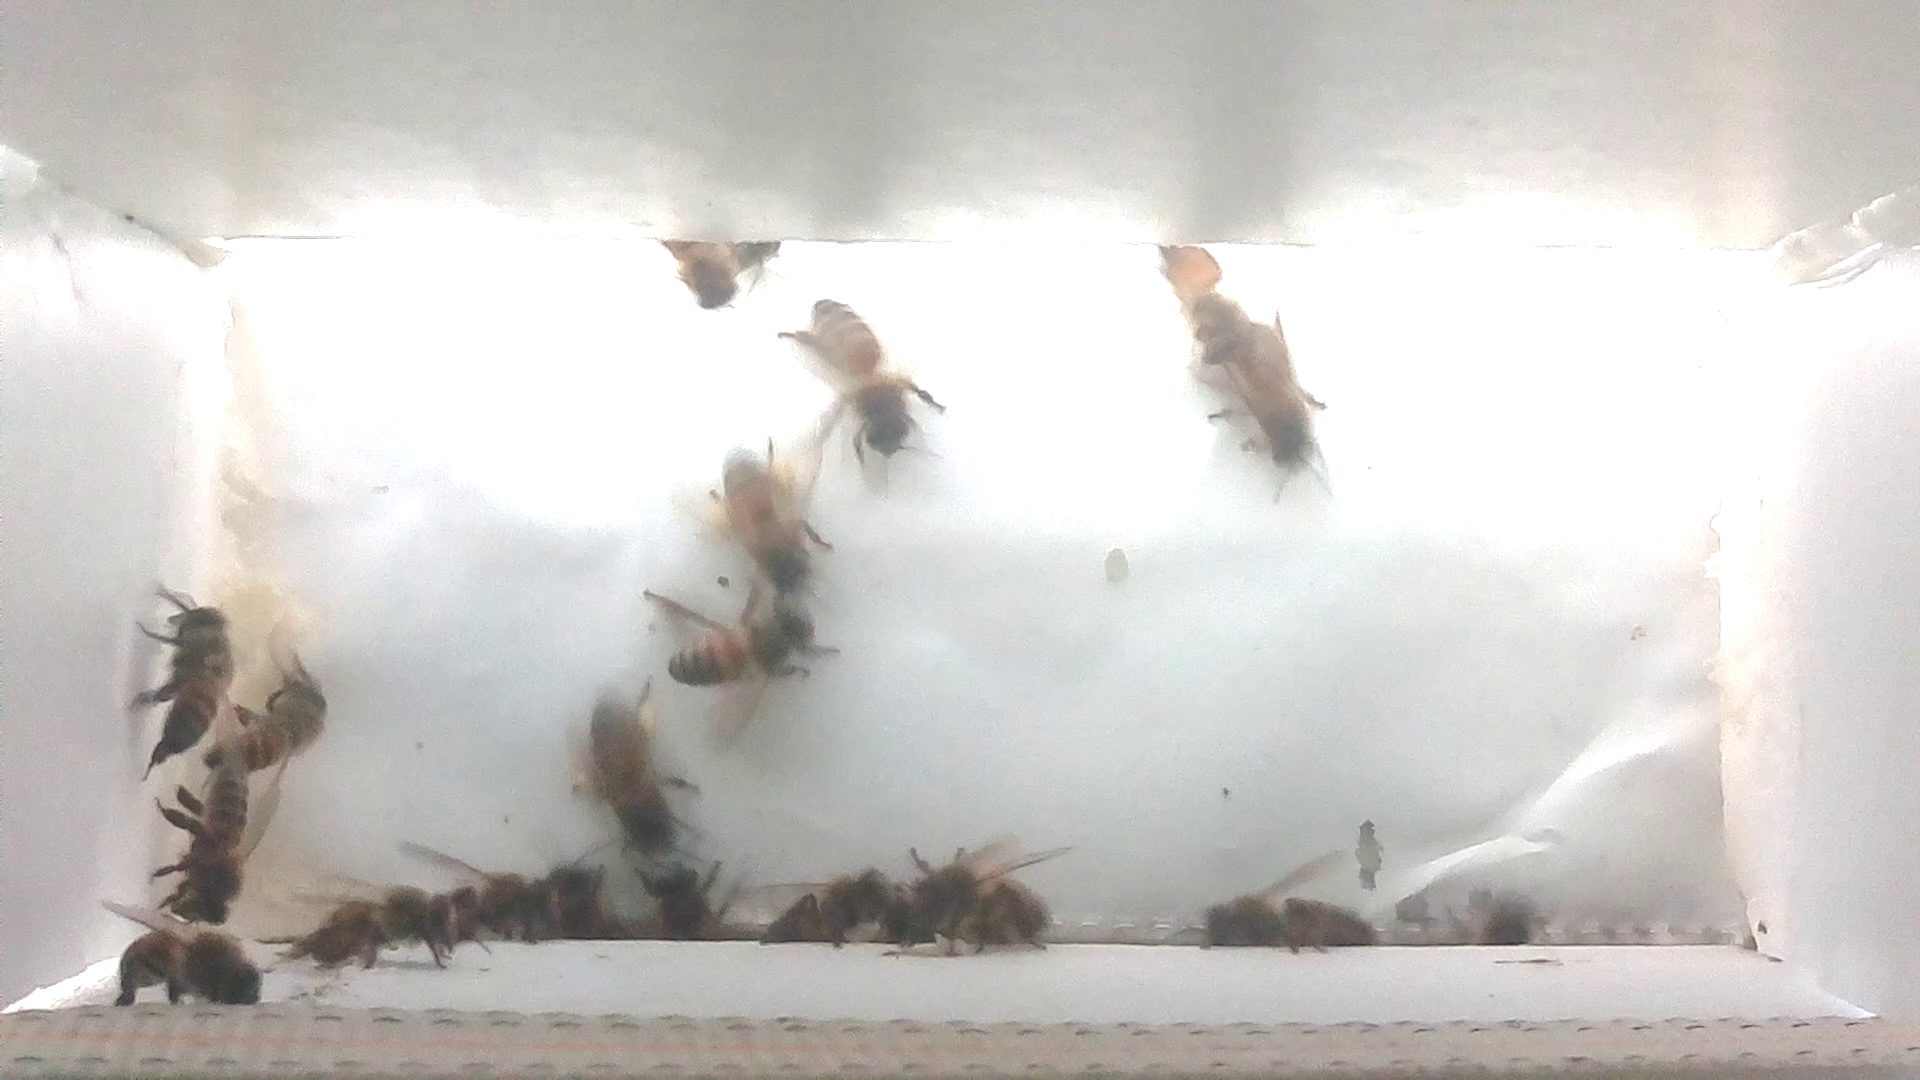bee: (675, 426, 876, 603), (769, 280, 949, 475), (616, 564, 851, 713), (1189, 825, 1400, 965), (268, 864, 493, 985), (117, 556, 240, 779), (570, 694, 717, 868), (893, 833, 1076, 971), (1207, 310, 1342, 489), (204, 640, 353, 798), (99, 889, 264, 1026), (138, 756, 260, 928), (624, 214, 794, 334), (746, 847, 919, 959), (456, 843, 621, 960), (1145, 225, 1259, 385), (628, 851, 749, 953)
